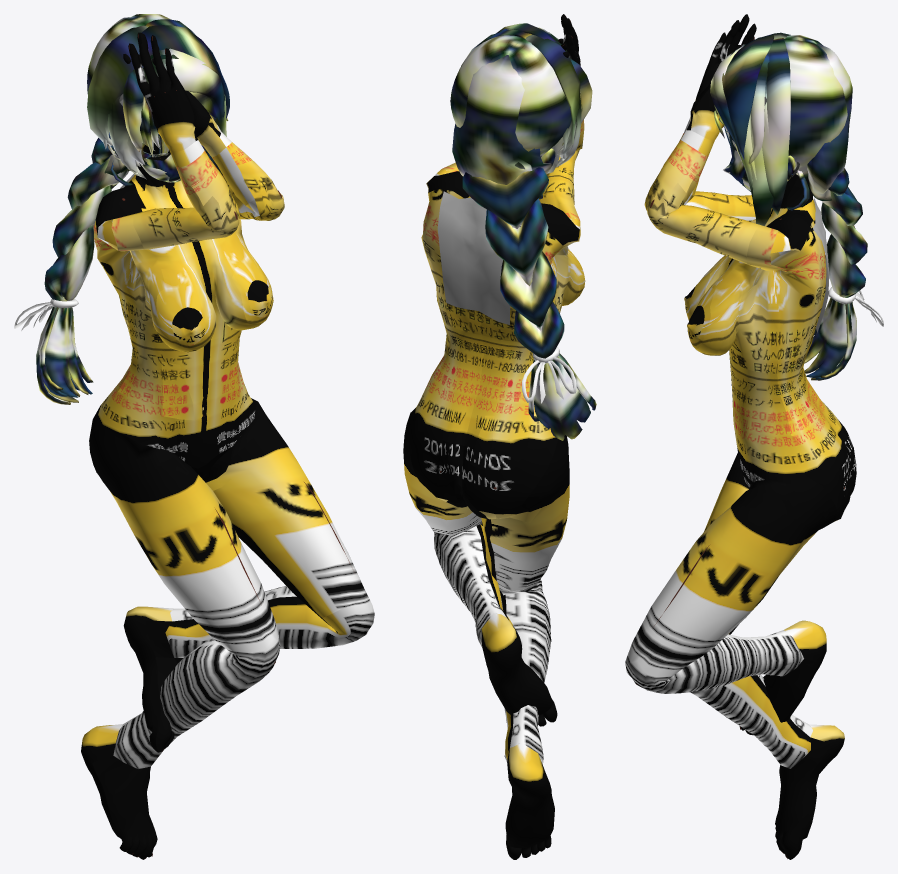
The model's file is ElenaAcostada2.obj.
3 views of the same model, side by side, from view 1: azimuth 30°, elevation 25°; view 2: azimuth 150°, elevation 25°; view 3: azimuth 270°, elevation 25° (orthographic). The views are drawn at different scales.
Parts seen in each view (by area): view 1: ElenaCiv28_mesh_ElenaCiv28; view 2: ElenaCiv28_mesh_ElenaCiv28; view 3: ElenaCiv28_mesh_ElenaCiv28.
Boxes of the visible parts, bbox=[...] form: ElenaCiv28_mesh_ElenaCiv28: bbox=[14, 14, 374, 859]; ElenaCiv28_mesh_ElenaCiv28: bbox=[403, 14, 596, 859]; ElenaCiv28_mesh_ElenaCiv28: bbox=[625, 14, 883, 859].
Bounding box in the file's own units: 1.26 × 4.1 × 1.16.
